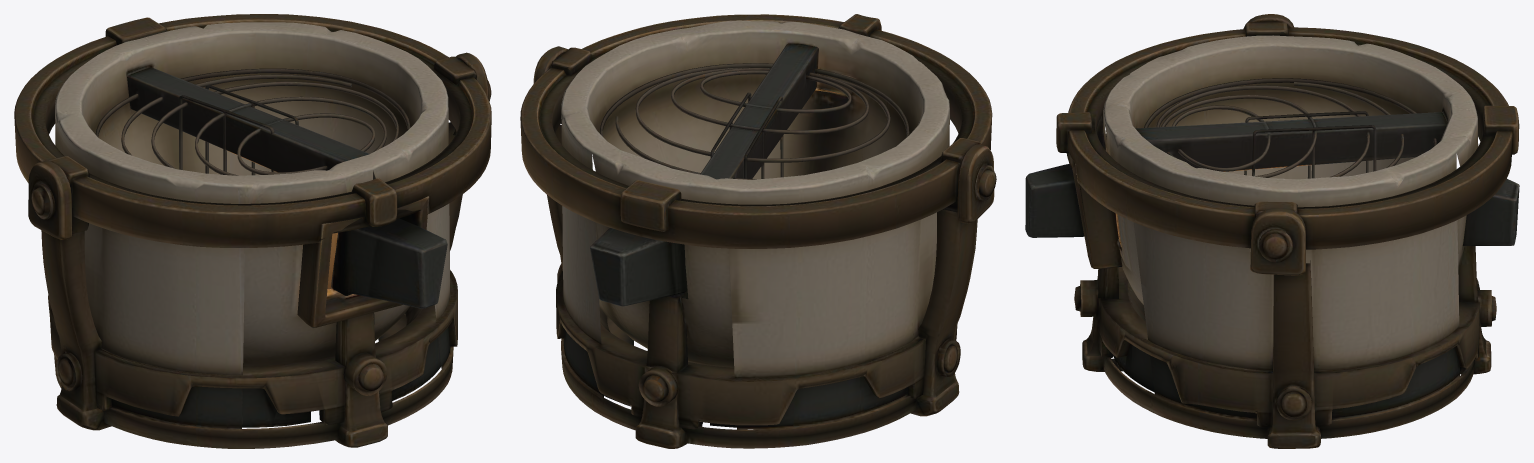
File: causal-test-crucible.glb
3 renders of one model, left to right at view 1: azimuth 30°, elevation 25°; view 2: azimuth 150°, elevation 25°; view 3: azimuth 270°, elevation 25°, orthographic. The views are drawn at different scales.
Parts seen in each view (by area): view 1: tripo_3172989b_bc08_48d4_8f58_517239430637; view 2: tripo_3172989b_bc08_48d4_8f58_517239430637; view 3: tripo_3172989b_bc08_48d4_8f58_517239430637.
Part boxes in pixels (x1=…): tripo_3172989b_bc08_48d4_8f58_517239430637: x1=14, y1=14, x2=491, y2=448; tripo_3172989b_bc08_48d4_8f58_517239430637: x1=520, y1=14, x2=996, y2=448; tripo_3172989b_bc08_48d4_8f58_517239430637: x1=1025, y1=14, x2=1519, y2=448.
Size of the model in its own units: 0.9995 by 0.5747 by 0.9995.
1 material, 1 textured.
